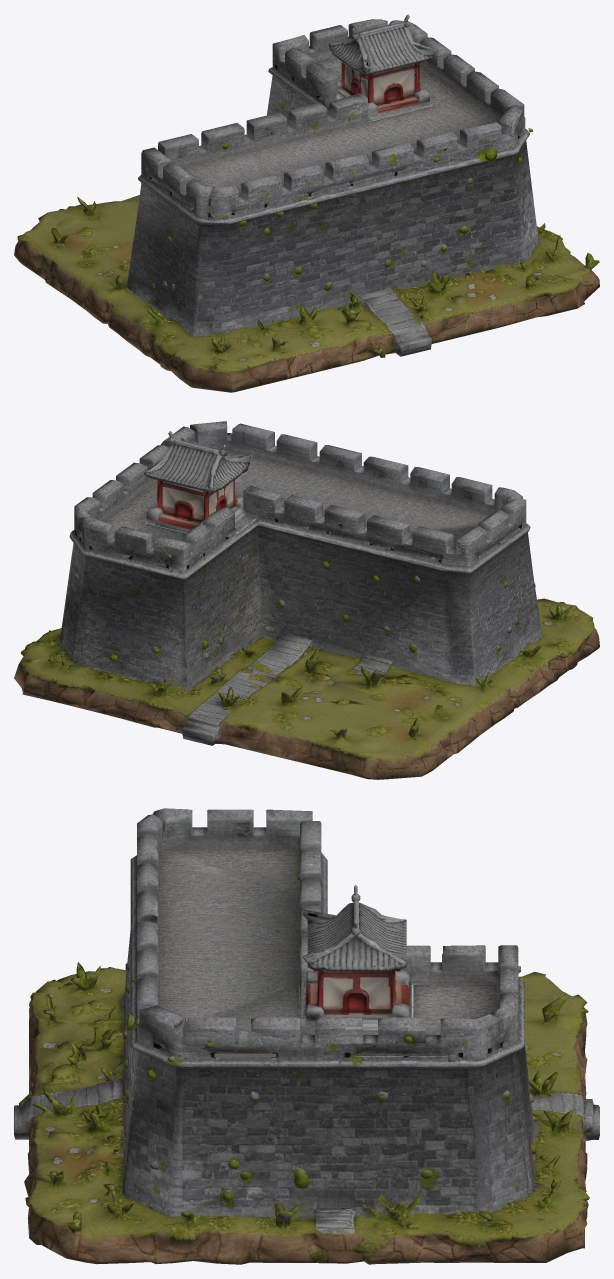
The model's file is chengqiang1.fbx.
3 renders of one model, top to bottom at view 1: azimuth 30°, elevation 25°; view 2: azimuth 150°, elevation 25°; view 3: azimuth 270°, elevation 25°, orthographic. The views are drawn at different scales.
Visible parts, largest first — view 1: tripo_node_7fabd960; view 2: tripo_node_7fabd960; view 3: tripo_node_7fabd960.
Boxes of the visible parts, box(x1,y1,x2,y2) form: tripo_node_7fabd960: box(14, 14, 599, 392); tripo_node_7fabd960: box(14, 421, 599, 779); tripo_node_7fabd960: box(14, 808, 599, 1264).
Size of the model in its own units: 99.61 by 91.39 by 49.51.
1 material, 1 textured.
